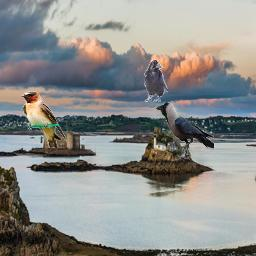Crow: (156, 102, 214, 159), (144, 59, 168, 102)
Swallow: (21, 91, 67, 148)
